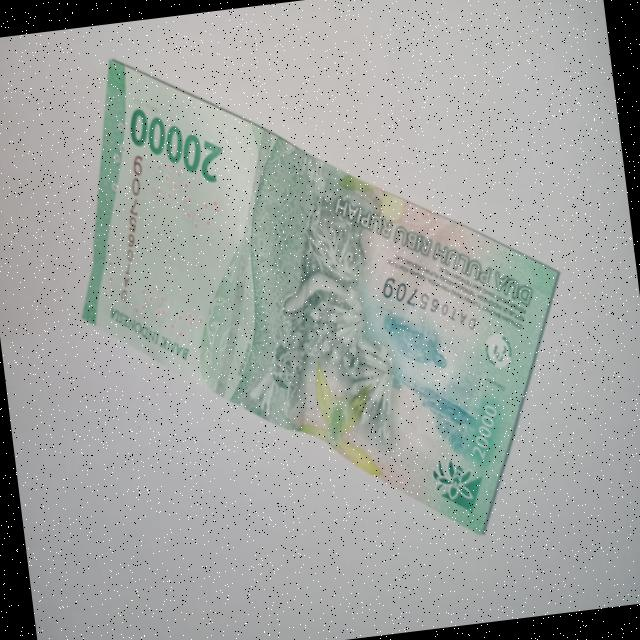20K: (36, 0, 600, 593)
